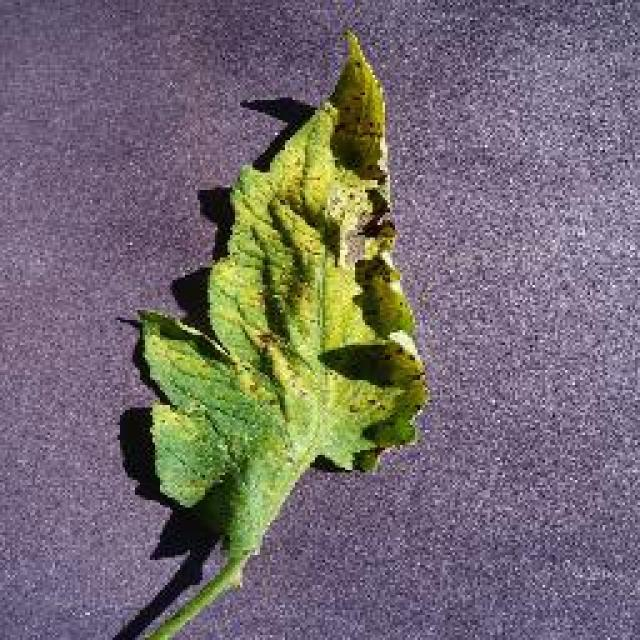Tomato Septoria spot leaf: (138, 26, 426, 564)
